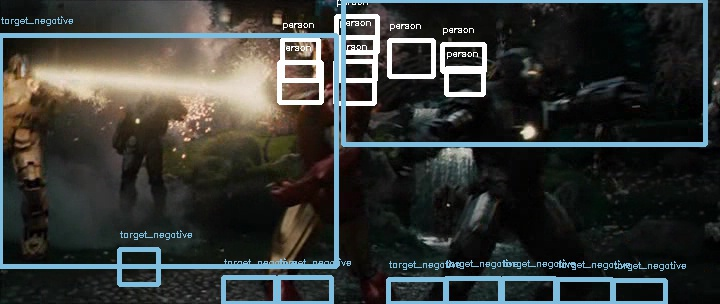person: (309, 33, 350, 78), (308, 33, 349, 78), (310, 33, 351, 78), (309, 32, 350, 77), (309, 34, 350, 79)
target_negative: (187, 32, 674, 198), (562, 156, 693, 280), (349, 27, 605, 83), (190, 43, 483, 89), (148, 292, 530, 299), (692, 277, 720, 292)
